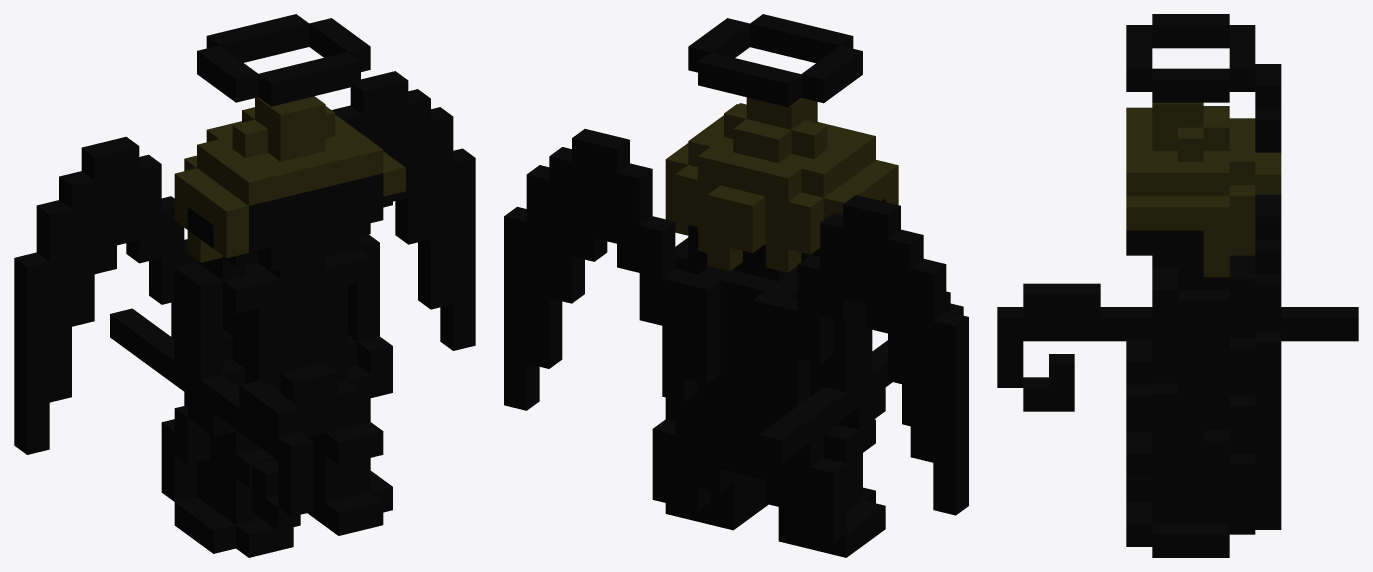
The model's file is PriestHero.obj.
3 renders of one model, left to right at view 1: azimuth 30°, elevation 25°; view 2: azimuth 150°, elevation 25°; view 3: azimuth 270°, elevation 25°, orthographic.
Bounding box in the file's own units: 2 × 2 × 1.4.
